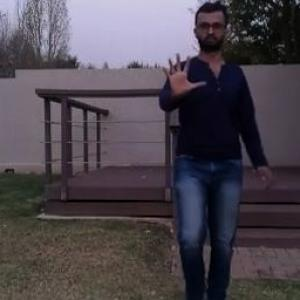follow_hand: (157, 48, 207, 98)
